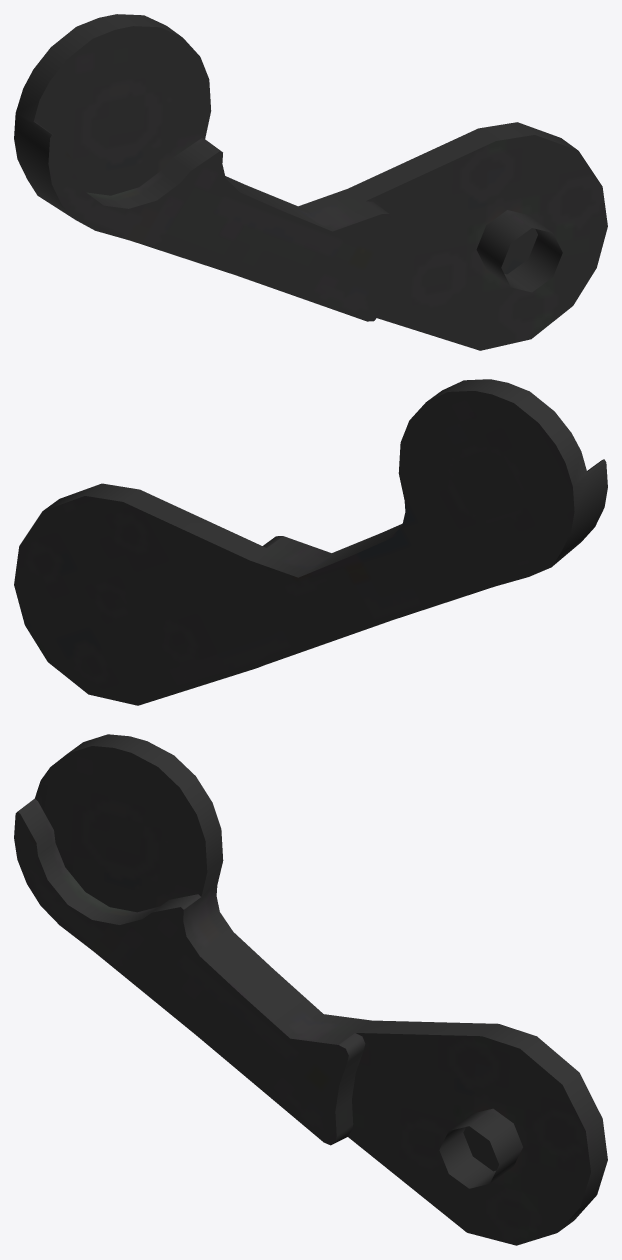
Rendered from rod.dae.
3 renders of one model, top to bottom at view 1: azimuth 30°, elevation 25°; view 2: azimuth 150°, elevation 25°; view 3: azimuth 330°, elevation 25°, orthographic. The views are drawn at different scales.
Visible parts, largest first — view 1: rod; view 2: rod; view 3: rod.
Boxes of the visible parts, bbox=[...] form: rod: bbox=[14, 14, 607, 350]; rod: bbox=[14, 379, 607, 705]; rod: bbox=[14, 734, 607, 1245].
Size of the model in its own units: 0.0635 by 0.00802 by 0.0431.
